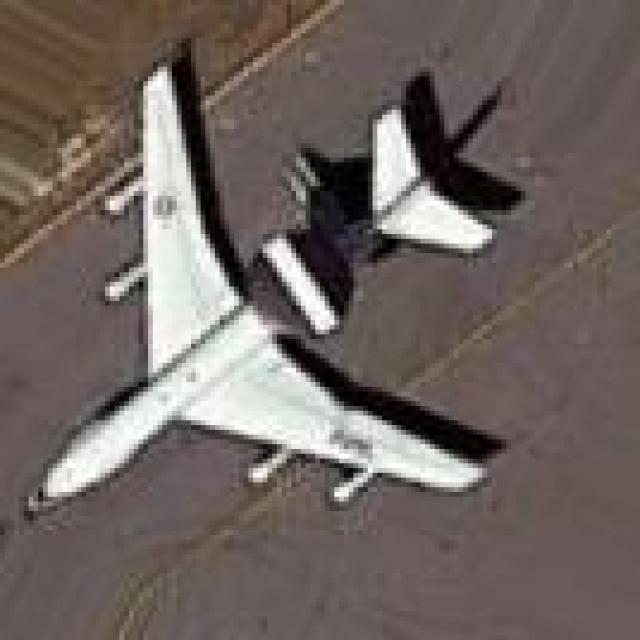E-3_TopDown: (19, 38, 506, 521)
